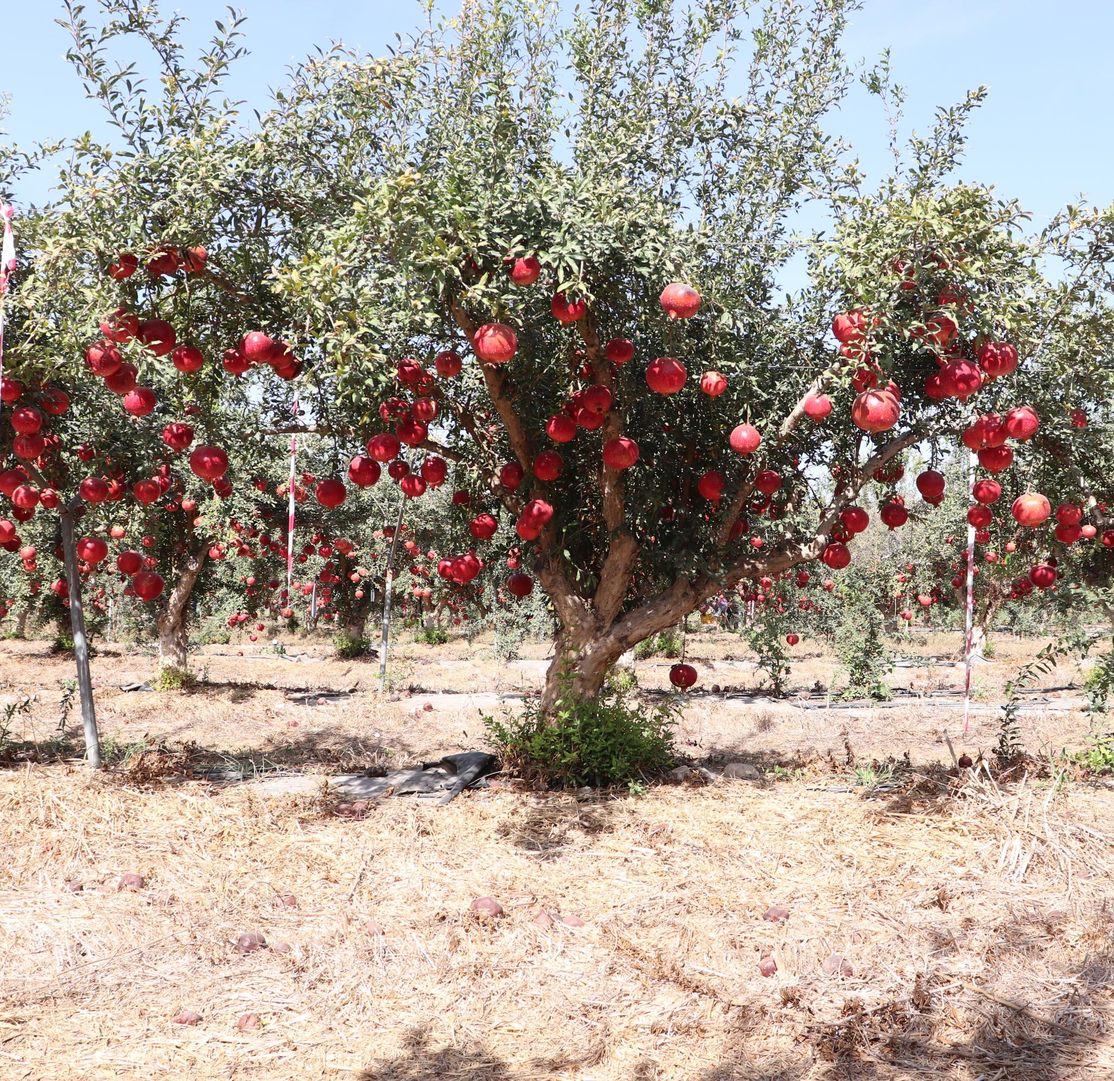pomegranates: (851, 389, 900, 437), (474, 322, 517, 369), (939, 359, 982, 405), (646, 357, 687, 398), (979, 341, 1018, 384), (498, 250, 541, 287), (136, 319, 176, 358), (660, 283, 700, 321), (1012, 493, 1051, 531), (99, 306, 138, 344), (84, 340, 122, 379), (190, 447, 228, 485), (1003, 406, 1039, 446), (601, 437, 639, 474), (146, 240, 180, 281), (831, 307, 866, 346), (239, 331, 275, 366), (104, 362, 140, 397), (551, 291, 585, 328), (939, 284, 977, 317), (974, 414, 1008, 450), (978, 444, 1014, 477), (348, 456, 381, 491), (366, 433, 401, 465), (729, 423, 760, 459), (124, 387, 156, 421), (698, 471, 726, 509), (928, 313, 959, 347), (163, 422, 194, 456), (887, 257, 918, 290), (850, 362, 883, 393), (932, 244, 968, 272), (546, 414, 577, 446), (522, 499, 553, 531), (315, 479, 346, 511), (858, 306, 893, 334), (172, 346, 203, 377), (14, 433, 45, 464), (11, 407, 42, 438), (450, 555, 480, 587), (464, 253, 495, 283), (396, 420, 427, 450), (133, 573, 163, 604), (76, 537, 107, 567), (40, 387, 70, 418), (930, 341, 963, 369), (534, 451, 564, 481), (605, 338, 634, 369), (469, 513, 498, 544), (840, 507, 869, 537), (916, 471, 945, 501), (79, 478, 109, 507), (804, 394, 832, 425), (584, 385, 612, 416), (267, 341, 294, 373), (840, 340, 873, 366), (972, 479, 1001, 508), (379, 397, 409, 425), (223, 349, 251, 379), (435, 350, 462, 381), (1028, 564, 1057, 592), (924, 372, 950, 403), (569, 349, 594, 381), (669, 664, 697, 692), (880, 504, 908, 532), (421, 457, 450, 484), (274, 355, 303, 382), (561, 390, 584, 423), (500, 461, 523, 494), (823, 543, 851, 570), (0, 470, 28, 497), (756, 470, 782, 499), (701, 371, 727, 400), (13, 485, 39, 514), (507, 574, 534, 601), (400, 474, 427, 501), (577, 408, 605, 434), (117, 550, 143, 578), (109, 255, 138, 280), (967, 505, 993, 532), (395, 359, 422, 385), (134, 481, 161, 507), (408, 370, 434, 396), (1056, 504, 1082, 530), (1055, 523, 1082, 548), (963, 425, 986, 454), (0, 376, 23, 405), (516, 518, 540, 542), (877, 380, 902, 403), (388, 460, 411, 484), (1011, 578, 1033, 600), (830, 527, 855, 546), (13, 505, 35, 526), (437, 558, 455, 583), (1067, 409, 1087, 430), (830, 462, 850, 482), (484, 425, 503, 446), (921, 493, 945, 509), (888, 464, 904, 484), (873, 466, 891, 483), (884, 494, 905, 506)
